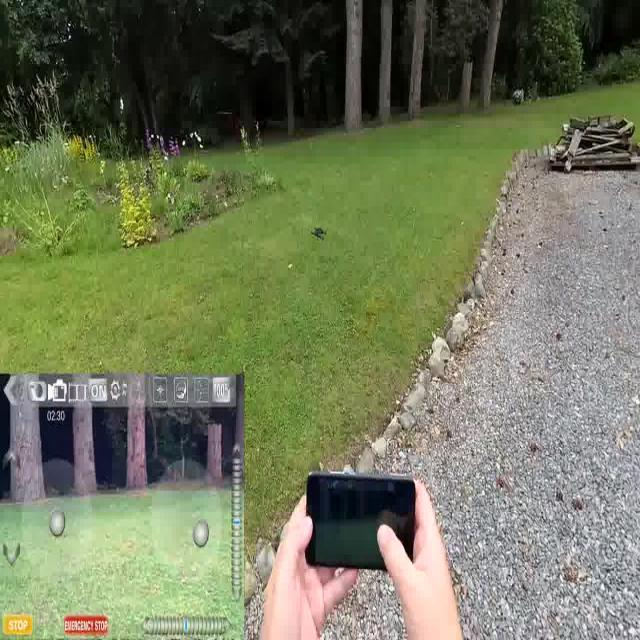drones: (305, 217, 335, 251)
